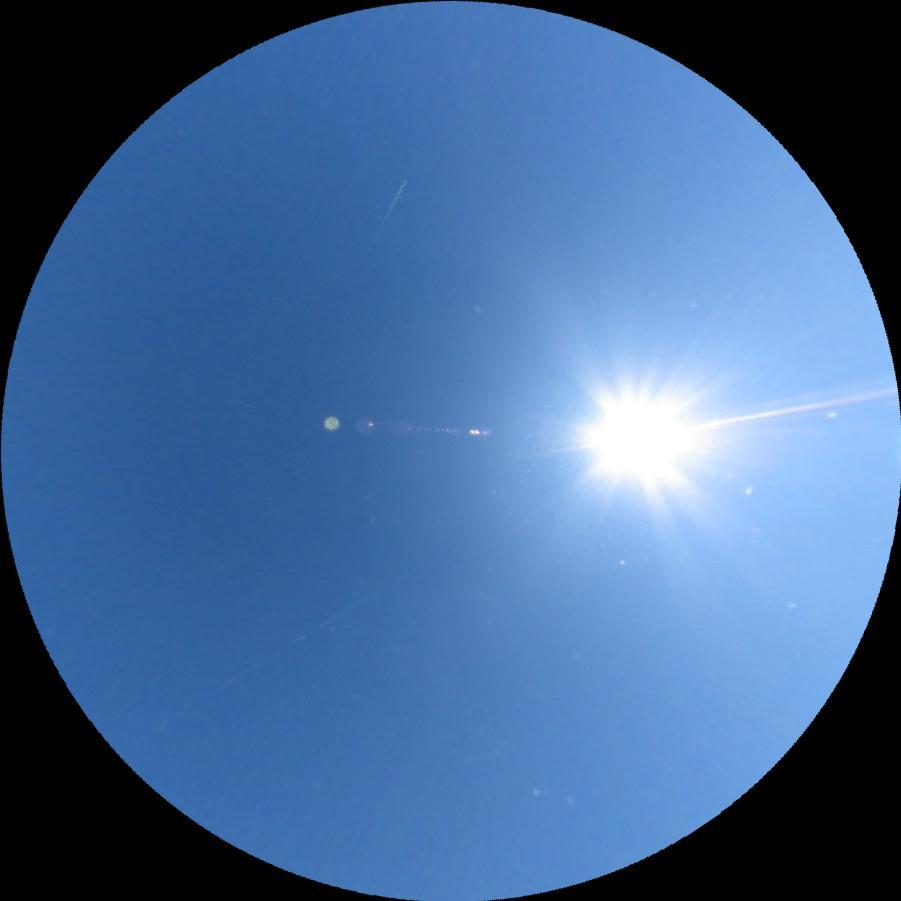contrail young: (371, 175, 409, 240)
parasite: (692, 386, 898, 431)
sun: (573, 377, 707, 496)
